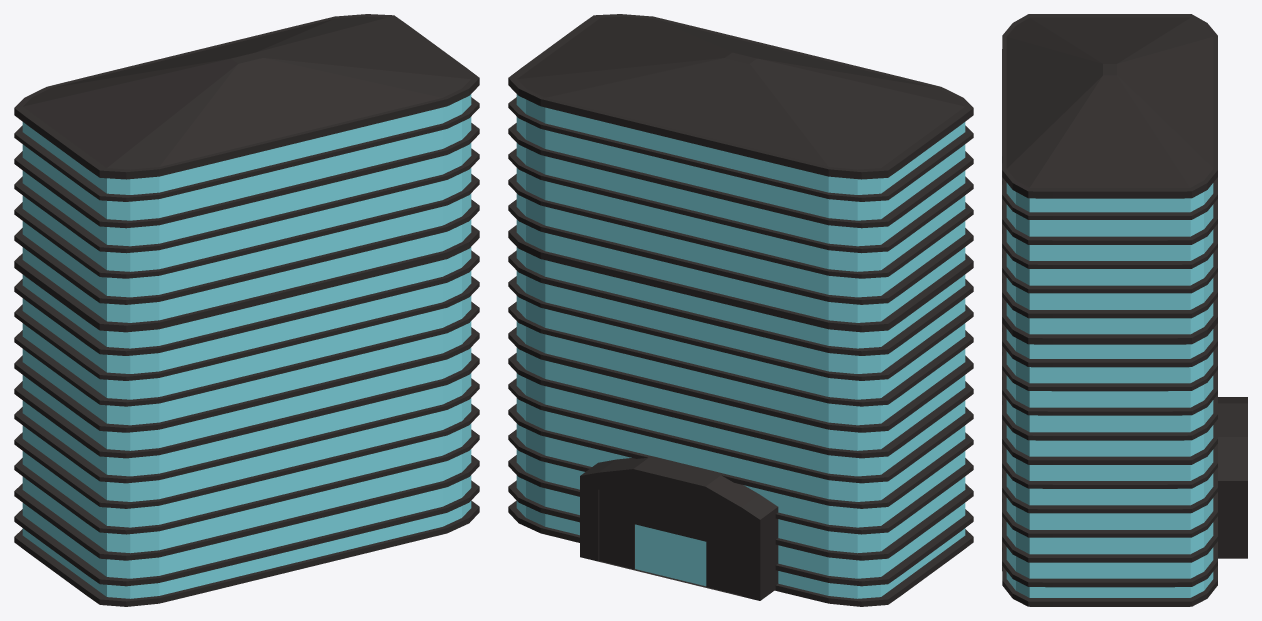
The model's file is skyscraper2_medium.fbx.
3 views of the same model, side by side, from view 1: azimuth 30°, elevation 25°; view 2: azimuth 150°, elevation 25°; view 3: azimuth 270°, elevation 25° (orthographic). The views are drawn at different scales.
Visible parts, largest first — view 1: Cube, Cube.001, Cube.002; view 2: Cube, Cube.001, Cube.002, Cube.003, Cube.004; view 3: Cube, Cube.001, Cube.002, Cube.003.
Part boxes in pixels (bbox=[...]): Cube: bbox=[22, 94, 471, 598]; Cube.001: bbox=[14, 14, 479, 606]; Cube.002: bbox=[23, 16, 470, 169]; Cube: bbox=[516, 94, 965, 598]; Cube.001: bbox=[508, 14, 973, 606]; Cube.002: bbox=[517, 16, 964, 169]; Cube.003: bbox=[580, 456, 778, 600]; Cube.004: bbox=[635, 524, 706, 586]; Cube: bbox=[1006, 183, 1213, 597]; Cube.001: bbox=[1002, 14, 1217, 606]; Cube.002: bbox=[1006, 17, 1213, 187]; Cube.003: bbox=[1218, 397, 1247, 558].
Size of the model in its own units: 6999 by 8252 by 4093.
